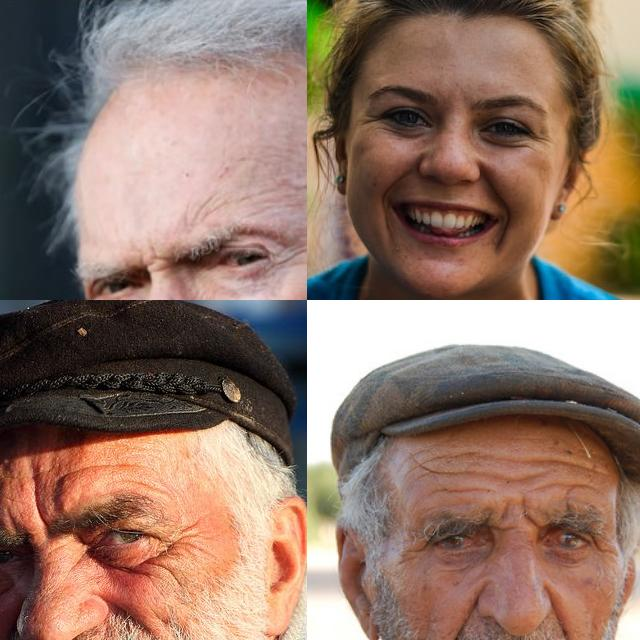crows_feet: (160, 524, 203, 556), (270, 240, 304, 276), (396, 534, 430, 564), (588, 530, 614, 560), (525, 129, 551, 151), (361, 108, 384, 130)
forehead: (514, 448, 594, 478), (454, 461, 524, 493), (60, 456, 132, 479), (180, 190, 223, 228), (405, 448, 449, 480), (277, 167, 307, 192)
frown_line: (140, 246, 174, 278), (26, 492, 52, 532), (486, 512, 514, 542), (516, 500, 538, 530)
gummy_smile: (443, 589, 476, 640), (547, 588, 571, 640), (379, 168, 416, 194), (478, 169, 506, 203)
sad_smile: (377, 208, 401, 242), (492, 220, 512, 253)
